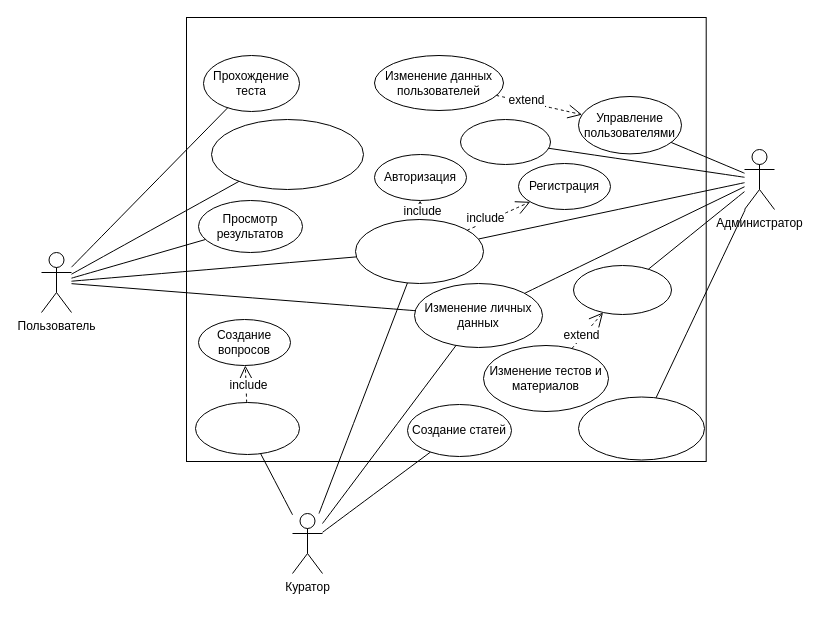
Some shapes in this 820 by 627 pixel diagram are drawn without their labels. The box of each missing label's shape, as (x1, y1, x2, y2) in pixels:
Вход в систему: (354, 218, 484, 284)
Мониторинг состояния системы: (578, 396, 704, 460)
Настройка системы: (460, 118, 550, 164)
Просмотр материалов (статей): (210, 118, 364, 190)
Работа с данными: (572, 264, 672, 314)
Система стажерской программы: (186, 16, 706, 462)
Создание теста: (194, 402, 300, 454)
